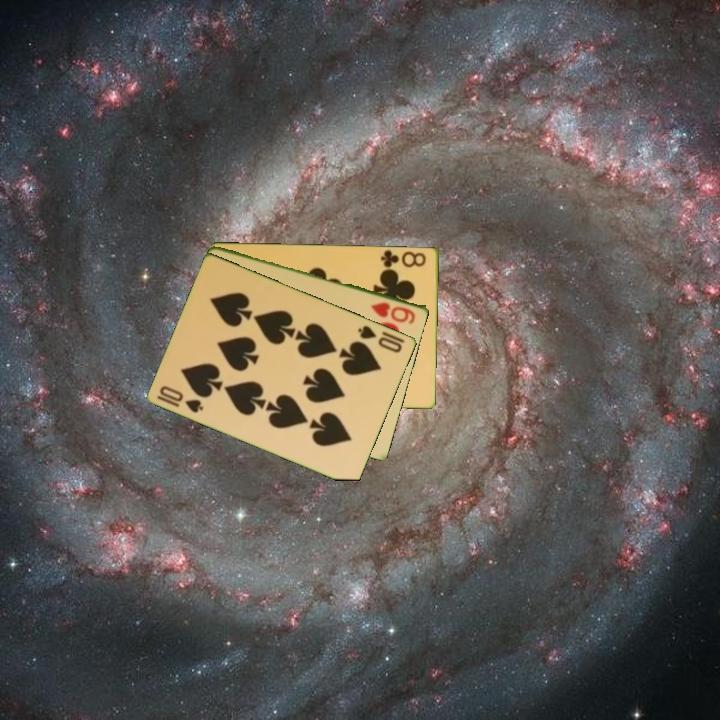10s: (154, 382, 207, 416), (355, 321, 405, 356)
6h: (368, 298, 419, 327)
8c: (377, 247, 429, 272)
